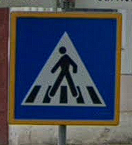trecere_pietoni: (8, 8, 125, 128)
